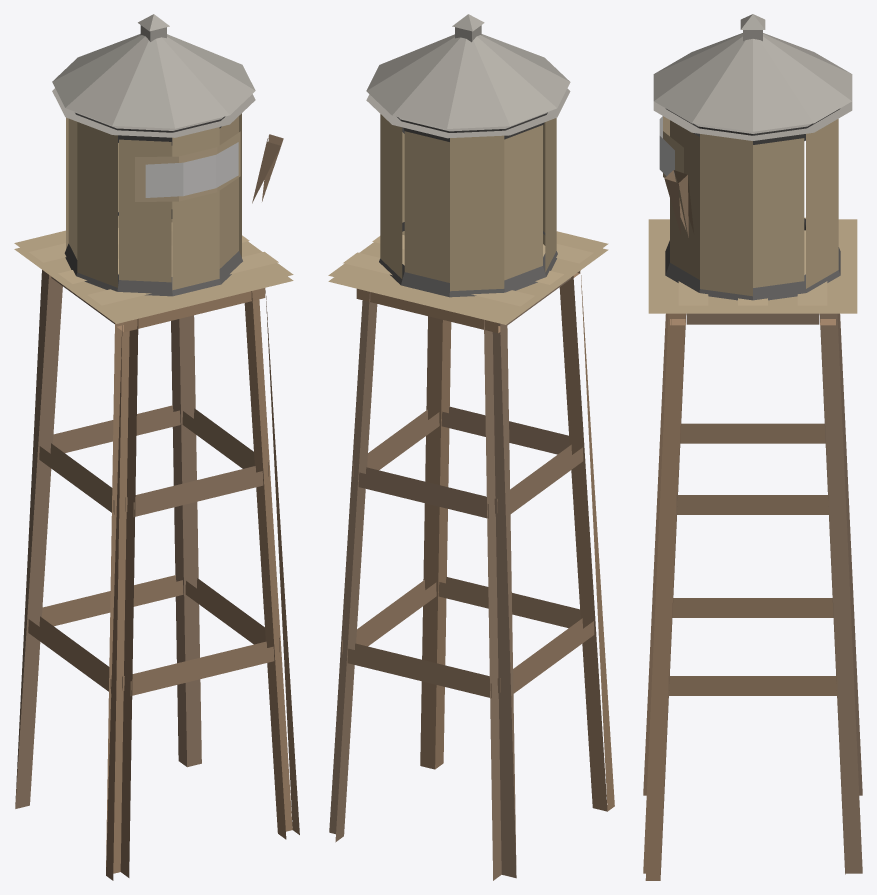
Rendered from fountain.lod.glb.
The picture shows the model from 3 angles, left to right: view 1: azimuth 30°, elevation 25°; view 2: azimuth 150°, elevation 25°; view 3: azimuth 270°, elevation 25°; orthographic projection.
Visible parts, largest first — view 1: fountain; view 2: fountain; view 3: fountain.
Part boxes in pixels (x1,y1,x2,y2): fountain: (14, 14, 299, 880); fountain: (328, 14, 614, 880); fountain: (643, 14, 862, 880).
Bounding box in the file's own units: 2.78 × 11.46 × 2.78.
